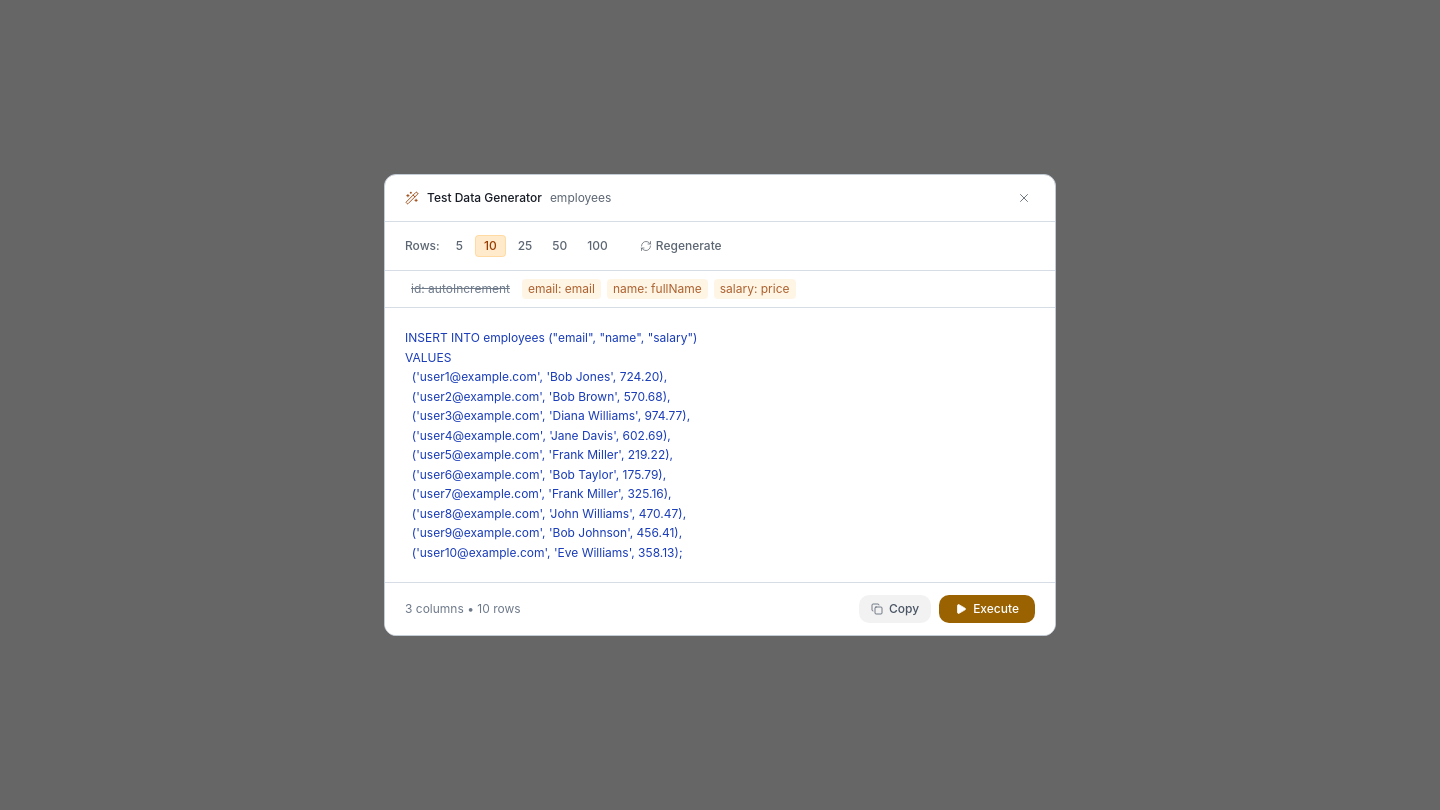
Test: TestDataGenerator › reports the copy once the write has reported one
Expected: the element with test id "test-data-copy" does not show "Copied"
Click the button with test id "test-data-copy" at (895, 609), box x1=859 y1=595 x2=931 y2=623
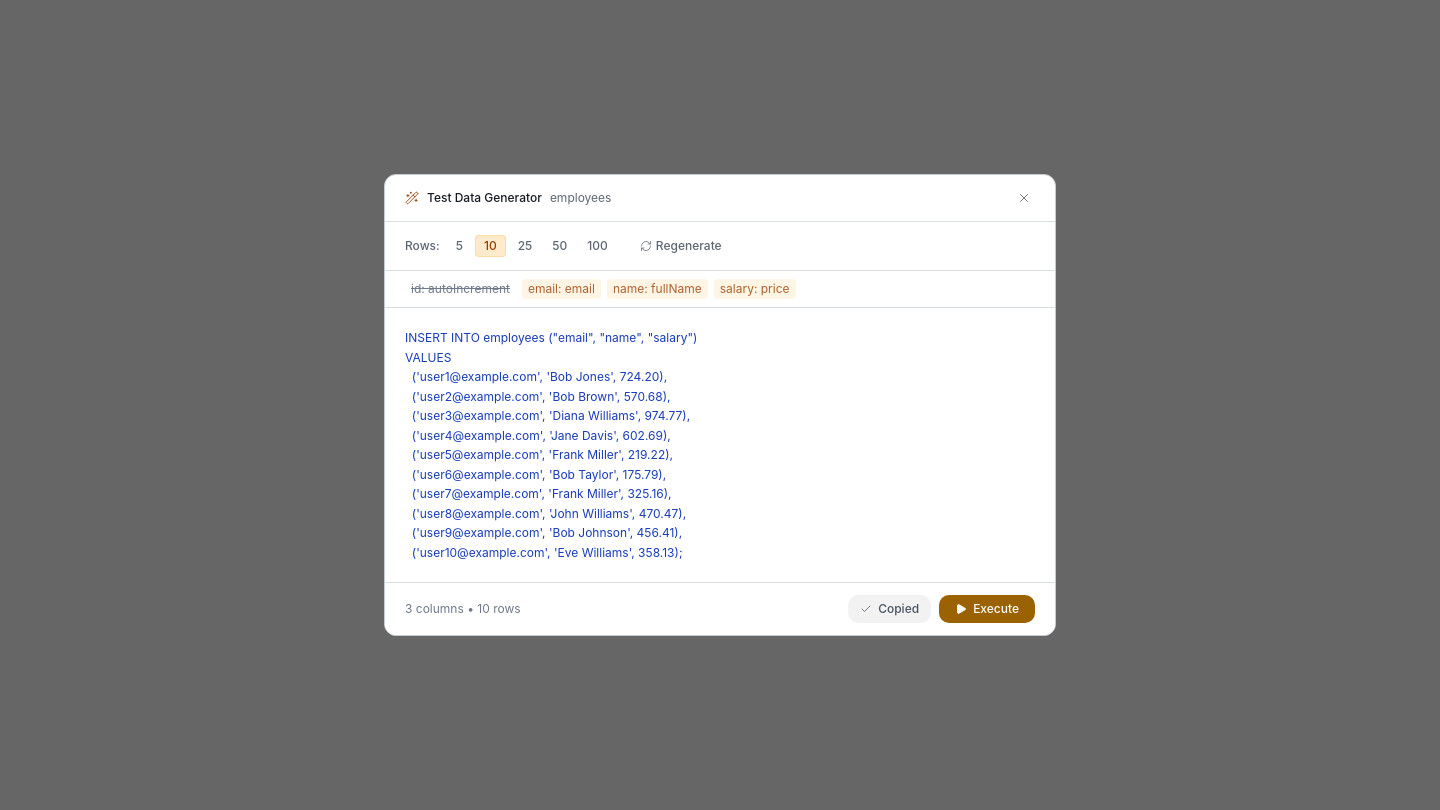
Expected: the button with test id "test-data-copy" reads "Copied", x1=848 y1=595 x2=931 y2=623
